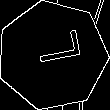L_W: (24, 35, 81, 76)
